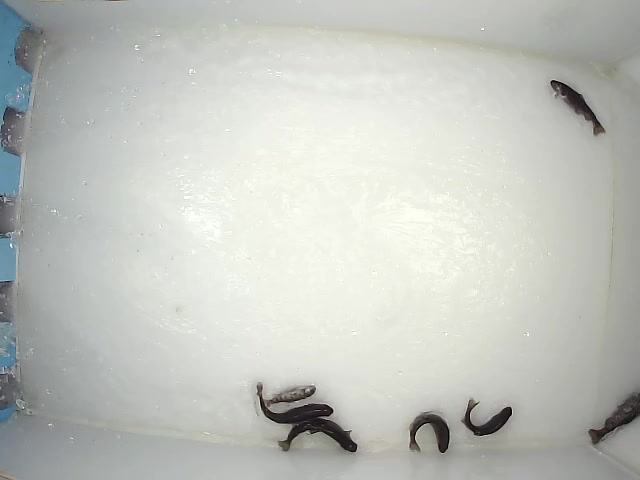fish: (549, 78, 608, 139), (254, 381, 336, 422), (275, 417, 358, 455), (587, 389, 640, 446), (460, 395, 514, 437), (409, 412, 454, 455), (261, 382, 317, 407)
